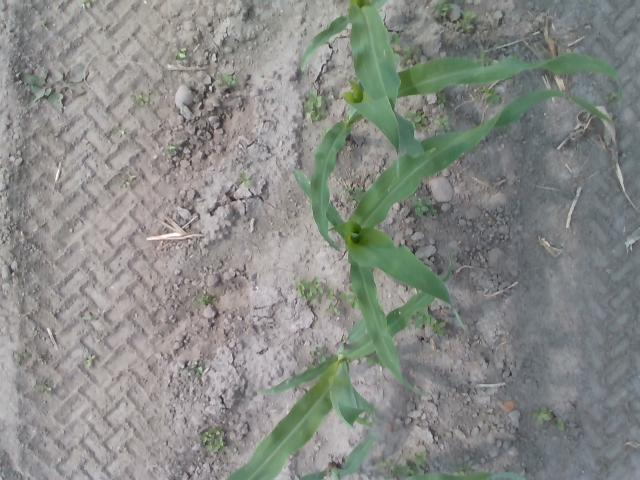Maize: (289, 88, 615, 397), (310, 52, 623, 257), (225, 264, 453, 480), (298, 0, 425, 160), (297, 434, 492, 480)
Weeds: (19, 70, 89, 114), (201, 424, 226, 451), (298, 277, 323, 299), (411, 198, 437, 216), (415, 310, 436, 328), (532, 405, 551, 424), (411, 110, 430, 129), (460, 10, 476, 32), (402, 46, 422, 60), (308, 90, 322, 109), (486, 86, 501, 103), (436, 114, 450, 130), (238, 172, 253, 186), (115, 122, 128, 138), (391, 32, 402, 50), (414, 451, 428, 465), (316, 346, 330, 360), (440, 3, 453, 17), (381, 459, 394, 472), (432, 322, 446, 334), (350, 186, 362, 200), (138, 94, 150, 107), (80, 0, 97, 9), (220, 76, 235, 86), (18, 350, 30, 362), (174, 48, 187, 59), (198, 294, 212, 304), (86, 355, 97, 367), (326, 304, 339, 313), (338, 292, 352, 300), (44, 382, 54, 393), (402, 467, 414, 476), (436, 92, 446, 102), (85, 314, 96, 322), (127, 174, 138, 182), (343, 186, 351, 197), (608, 90, 616, 101), (459, 465, 471, 472), (195, 362, 204, 371), (558, 421, 565, 430), (168, 143, 177, 150), (312, 110, 318, 120), (326, 291, 334, 298)
